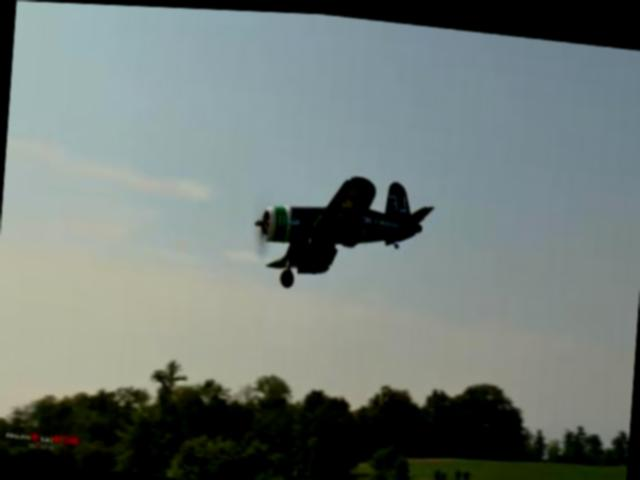uav: (246, 156, 442, 306)
